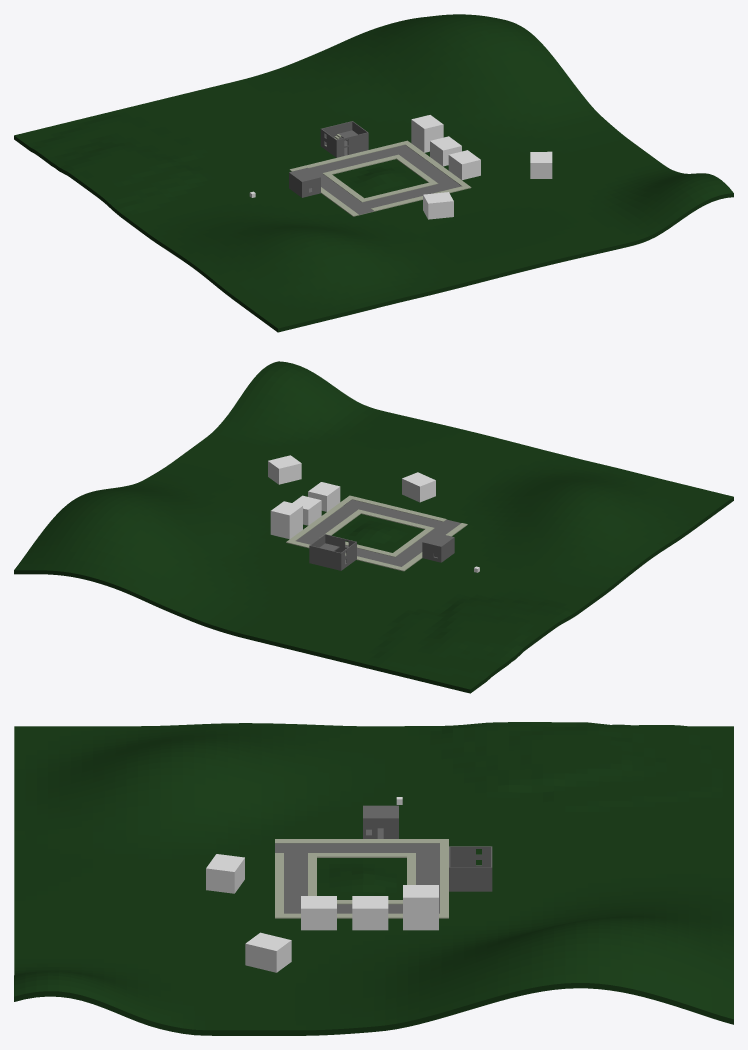
The model's file is street.gltf.
3 views of the same model, one above another, from view 1: azimuth 30°, elevation 25°; view 2: azimuth 150°, elevation 25°; view 3: azimuth 270°, elevation 25° (orthographic). The views are drawn at different scales.
Parts seen in each view (by area): view 1: Plane, Cube, etage, Cube.002, Cube.006, Cube.004, Cube.001, Cube.003, maison02; view 2: Plane, Cube, etage, Cube.003, Cube.004, Cube.006, Cube.002, maison02; view 3: Plane, Cube, Cube.003, Cube.004, Cube.001, Cube.002, Cube.006, etage, maison02.
Part boxes in pixels (bbox=[...]): Plane: bbox=[14, 14, 733, 332]; Cube: bbox=[411, 115, 443, 152]; etage: bbox=[320, 121, 368, 148]; Cube.002: bbox=[448, 150, 480, 180]; Cube.006: bbox=[289, 167, 320, 197]; Cube.004: bbox=[423, 192, 453, 219]; Cube.001: bbox=[430, 136, 461, 166]; Cube.003: bbox=[530, 151, 552, 178]; maison02: bbox=[320, 129, 368, 157]; Plane: bbox=[14, 361, 733, 693]; Cube: bbox=[270, 501, 302, 539]; etage: bbox=[309, 534, 356, 562]; Cube.003: bbox=[268, 455, 301, 484]; Cube.004: bbox=[402, 472, 435, 502]; Cube.006: bbox=[422, 532, 454, 562]; Cube.002: bbox=[308, 482, 340, 511]; maison02: bbox=[309, 543, 356, 570]; Plane: bbox=[14, 722, 733, 1035]; Cube: bbox=[403, 885, 438, 930]; Cube.003: bbox=[245, 932, 291, 972]; Cube.004: bbox=[206, 854, 244, 893]; Cube.001: bbox=[352, 896, 388, 930]; Cube.002: bbox=[301, 896, 336, 930]; Cube.006: bbox=[363, 805, 398, 838]; etage: bbox=[449, 846, 492, 880]; maison02: bbox=[449, 858, 492, 891].
Bounding box in the file's own units: 120 × 12.81 × 120.
